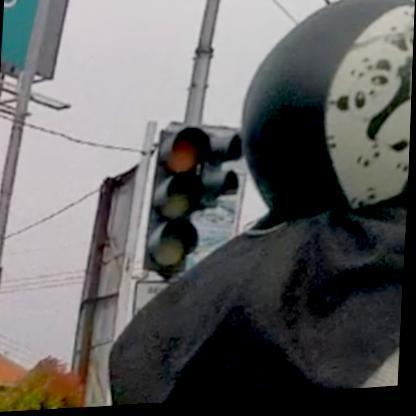red: (148, 124, 207, 282)
